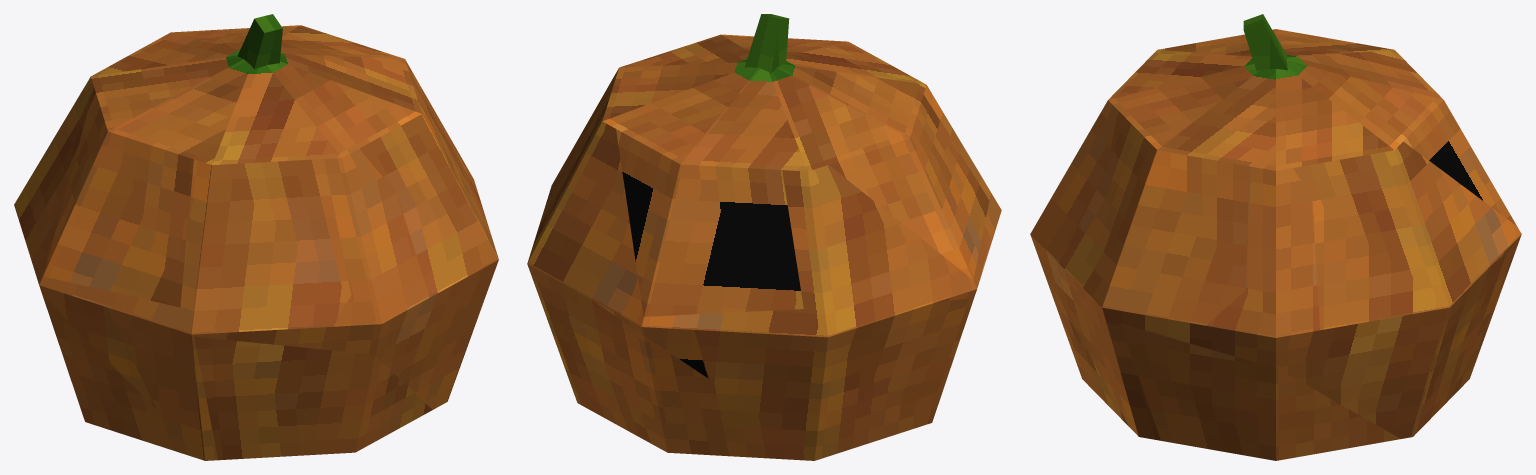
The model's file is Pumpkins.glb.
3 renders of one model, left to right at view 1: azimuth 30°, elevation 25°; view 2: azimuth 150°, elevation 25°; view 3: azimuth 270°, elevation 25°, orthographic. The views are drawn at different scales.
Parts seen in each view (by area): view 1: Pumpkin, JackOLantern; view 2: Pumpkin, JackOLantern; view 3: Pumpkin, JackOLantern.
Part boxes in pixels (box(x1,y1,x2,y2)): Pumpkin: box(14, 14, 498, 460); JackOLantern: box(39, 25, 498, 460); Pumpkin: box(527, 14, 1001, 460); JackOLantern: box(546, 34, 989, 377); Pumpkin: box(1043, 14, 1521, 460); JackOLantern: box(1030, 29, 1521, 440).
Size of the model in its own units: 0.75 by 0.6432 by 0.75.
1 material, 1 textured.
